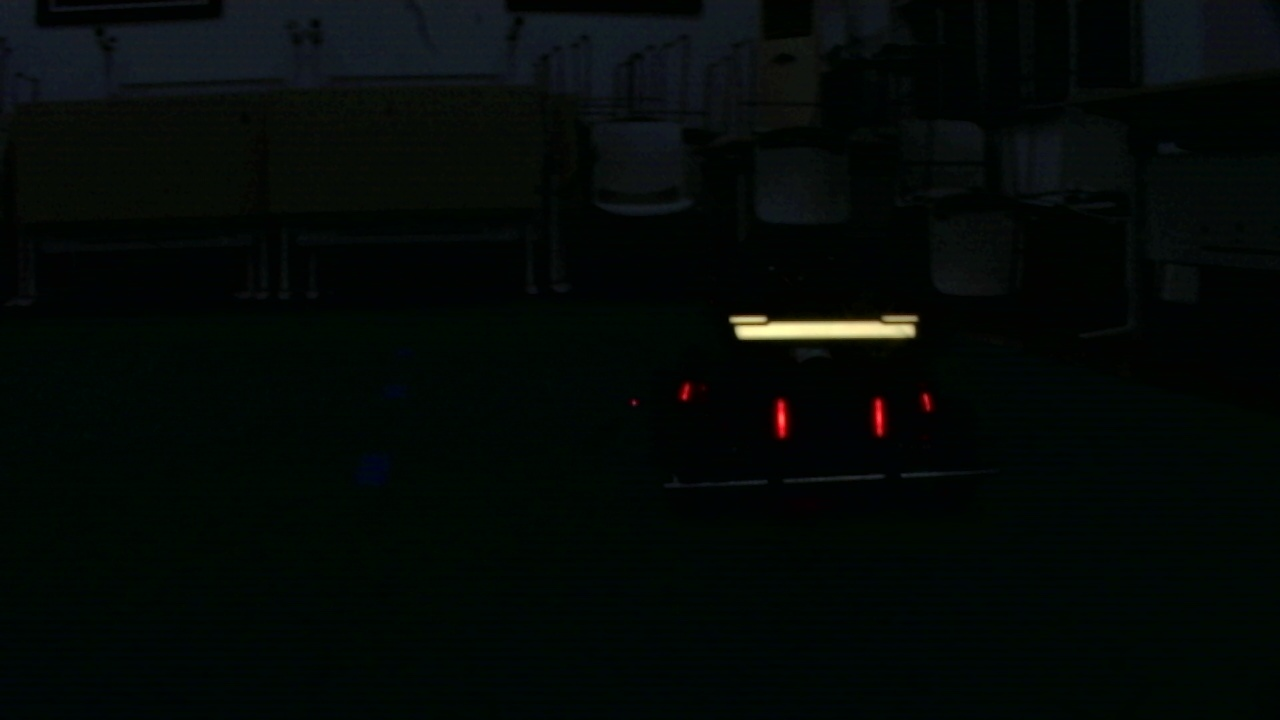lamp: (775, 395, 791, 442), (872, 400, 884, 441)
pair1: (771, 394, 887, 439)
